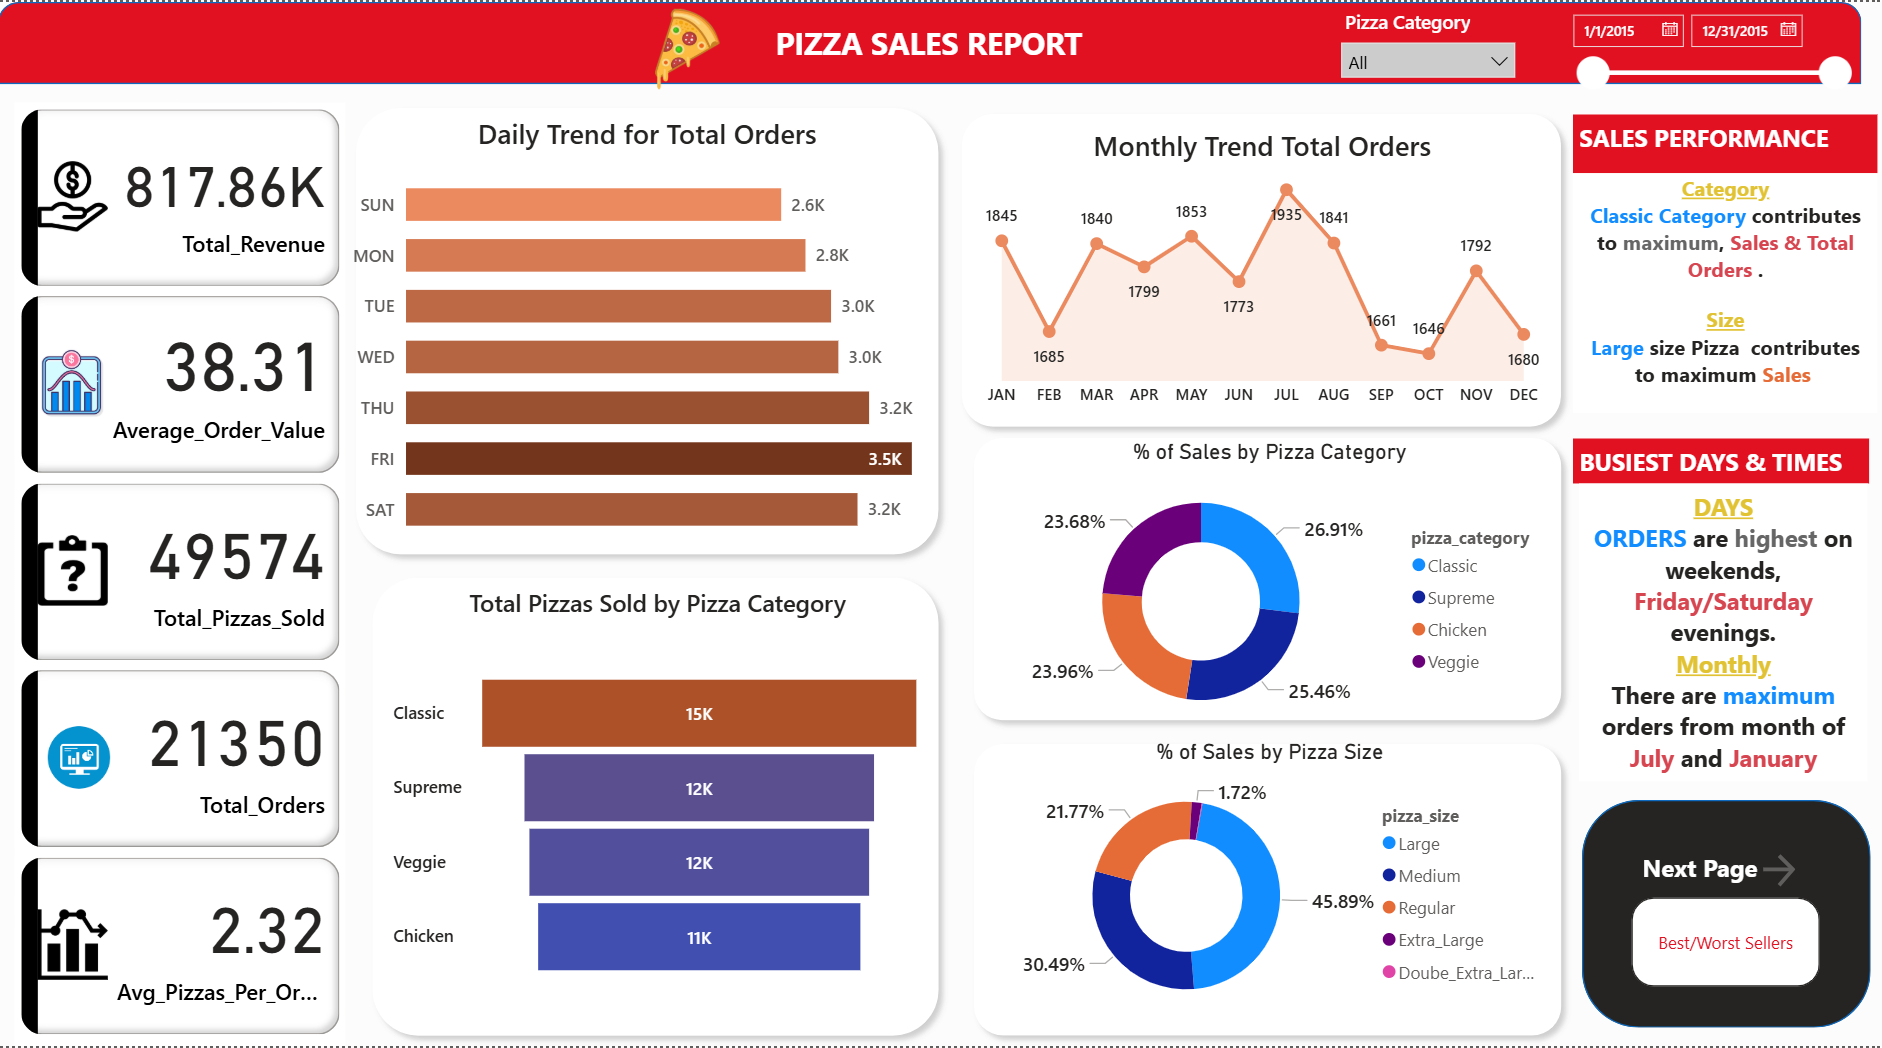

The dashboard page shown, as its layout file describes it:
{"tool":"powerbi","page":{"name":"Home","canvas":[1500,820],"ordinal":0},"visuals":[{"type":"cardVisual","fields":{"Data":["pizza_sales.Total_Revenue","pizza_sales.Average_Order_Value","pizza_sales.Total_Pizzas_Sold","pizza_sales.Total_Orders","pizza_sales.Avg_Pizzas_Per_Order"]},"box":[31.4,79.3,260,741.3],"z":0},{"type":"shape","box":[18.4,0,1464.2,64.5],"z":1000},{"type":"textbox","box":[595.6,10.2,310,43.9],"z":2000},{"type":"shape","box":[291.4,73.8,475.8,368.8],"z":3000},{"type":"clusteredBarChart","title":"Daily Trend for Total Orders","fields":{"Category":["pizza_sales.Order_day"],"Y":["pizza_sales.Total_Orders"]},"box":[291.4,88.5,475.8,344.9],"z":4000},{"type":"shape","box":[767.2,79.3,488.7,263.7],"z":5000},{"type":"areaChart","title":"Monthly Trend Total Orders","fields":{"Y":["pizza_sales.Total_Orders"],"Category":["pizza_sales.Month_Name"]},"box":[787.4,97.7,450,228.7],"z":6000},{"type":"shape","box":[304.3,442.6,462.9,378],"z":7000},{"type":"shape","box":[776.4,573.5,479.5,247.1],"z":8000},{"type":"shape","box":[776.4,333.8,479.5,239.7],"z":9000},{"type":"donutChart","title":"% of Sales by Pizza Category","fields":{"Category":["pizza_sales.pizza_category"],"Y":["pizza_sales.Total_Revenue"]},"box":[793,343,450,236],"z":10000},{"type":"donutChart","title":"% of Sales by Pizza Size","fields":{"Y":["pizza_sales.Total_Revenue"],"Category":["pizza_sales.pizza_size"]},"box":[793,579.1,450,226.8],"z":11000},{"type":"funnel","title":"Total Pizzas Sold by Pizza Category","fields":{"Y":["pizza_sales.Total_Pizzas_Sold"],"Category":["pizza_sales.pizza_category"]},"box":[324.6,459.2,426,346.7],"z":12000},{"type":"shape","box":[1263.2,627,226.8,178.9],"z":13000},{"type":"textbox","box":[1255.8,343,232.4,35],"z":14000},{"type":"textbox","box":[1261.4,378,226.8,234.2],"z":15000},{"type":"textbox","box":[1255.8,129.1,239.7,193.6],"z":16000},{"type":"textbox","box":[1255.8,88.5,239.7,46.1],"z":17000},{"type":"slicer","fields":{"Values":["pizza_sales.pizza_category"]},"box":[1064.1,0,156.8,73.8],"z":18000},{"type":"slicer","fields":{"Values":["pizza_sales.order_date"]},"box":[1242.9,0,239.7,73.8],"z":19000},{"type":"pageNavigator","box":[1302.4,703.7,148.9,70.4],"z":20000},{"type":"textbox","box":[1306.5,662.9,111.2,40.8],"z":21000},{"type":"actionButton","box":[1400.3,662.9,34.7,39.8],"z":22000},{"type":"image","box":[524.2,0,71.4,73.4],"z":23000}]}

Visuals, with their boxes in screenshot pixels (x1, y1, x2, y2), scaled from the page's 1500x820 canvas onto the 1882x1048 screenshot:
cardVisual - pizza_sales.Total_Revenue x pizza_sales.Average_Order_Value: {"x1": 39, "y1": 101, "x2": 366, "y2": 1047}
shape: {"x1": 23, "y1": 0, "x2": 1860, "y2": 82}
textbox: {"x1": 747, "y1": 13, "x2": 1136, "y2": 69}
shape: {"x1": 366, "y1": 94, "x2": 963, "y2": 566}
"Daily Trend for Total Orders" clusteredBarChart: {"x1": 366, "y1": 113, "x2": 963, "y2": 554}
shape: {"x1": 963, "y1": 101, "x2": 1576, "y2": 438}
"Monthly Trend Total Orders" areaChart: {"x1": 988, "y1": 125, "x2": 1553, "y2": 417}
shape: {"x1": 382, "y1": 566, "x2": 963, "y2": 1047}
shape: {"x1": 974, "y1": 733, "x2": 1576, "y2": 1047}
shape: {"x1": 974, "y1": 427, "x2": 1576, "y2": 733}
"% of Sales by Pizza Category" donutChart: {"x1": 995, "y1": 438, "x2": 1560, "y2": 740}
"% of Sales by Pizza Size" donutChart: {"x1": 995, "y1": 740, "x2": 1560, "y2": 1030}
"Total Pizzas Sold by Pizza Category" funnel: {"x1": 407, "y1": 587, "x2": 942, "y2": 1030}
shape: {"x1": 1585, "y1": 801, "x2": 1869, "y2": 1030}
textbox: {"x1": 1576, "y1": 438, "x2": 1867, "y2": 483}
textbox: {"x1": 1583, "y1": 483, "x2": 1867, "y2": 782}
textbox: {"x1": 1576, "y1": 165, "x2": 1876, "y2": 412}
textbox: {"x1": 1576, "y1": 113, "x2": 1876, "y2": 172}
slicer - pizza_sales.pizza_category: {"x1": 1335, "y1": 0, "x2": 1532, "y2": 94}
slicer - pizza_sales.order_date: {"x1": 1559, "y1": 0, "x2": 1860, "y2": 94}
pageNavigator: {"x1": 1634, "y1": 899, "x2": 1821, "y2": 989}
textbox: {"x1": 1639, "y1": 847, "x2": 1779, "y2": 899}
actionButton: {"x1": 1757, "y1": 847, "x2": 1800, "y2": 898}
image: {"x1": 658, "y1": 0, "x2": 747, "y2": 94}
